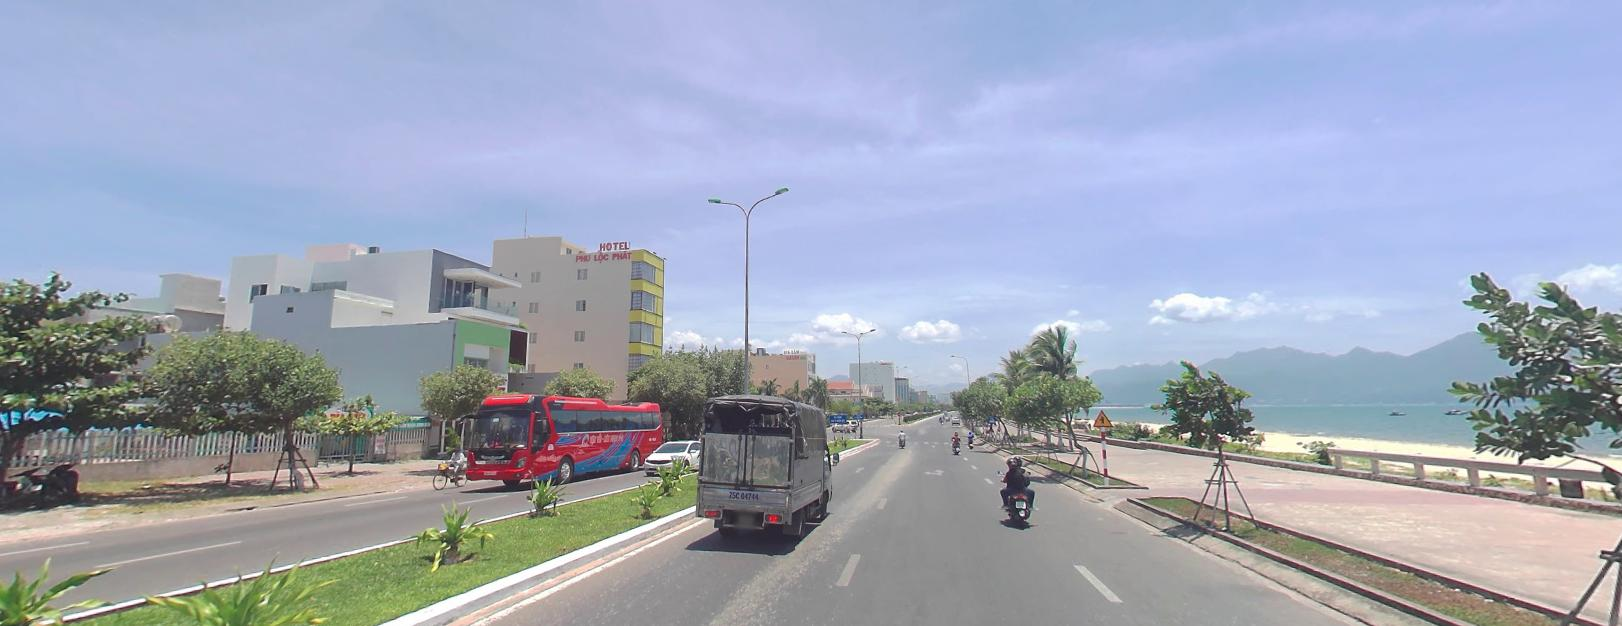Cam nguoc chieu: (897, 411, 900, 414)
Nguy hiem: (1092, 407, 1114, 425), (1092, 407, 1112, 426)
